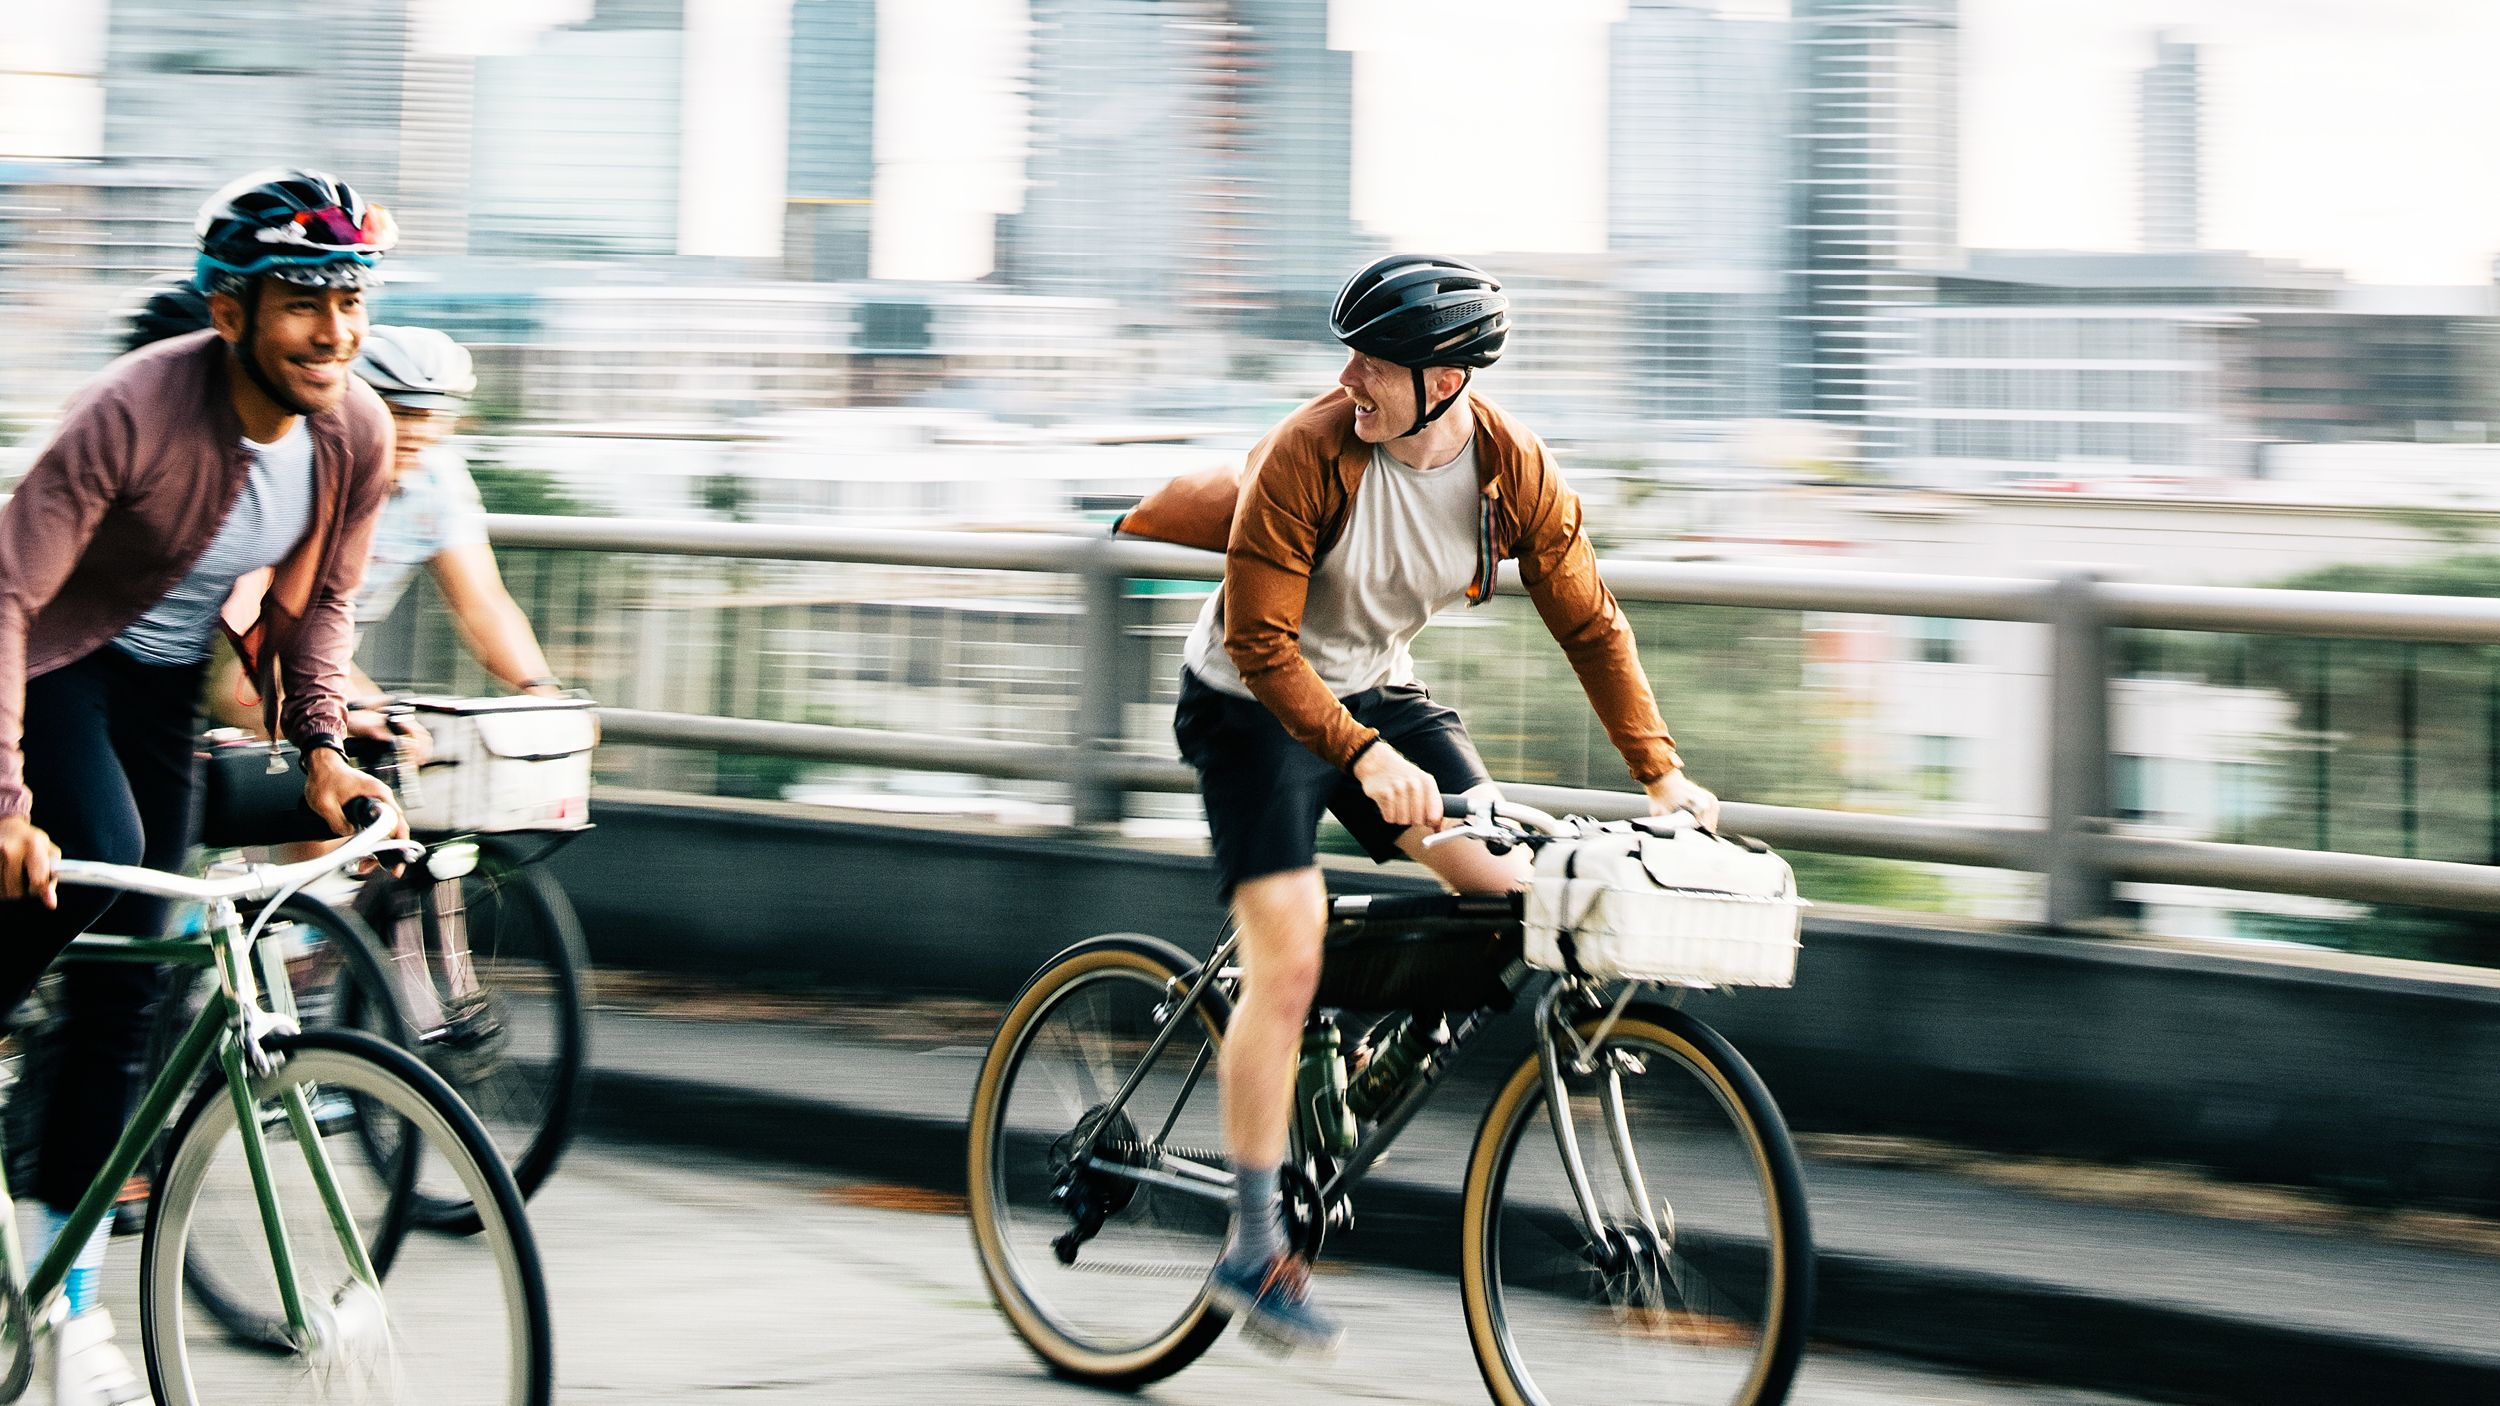commuter: (951, 247, 1832, 1406)
